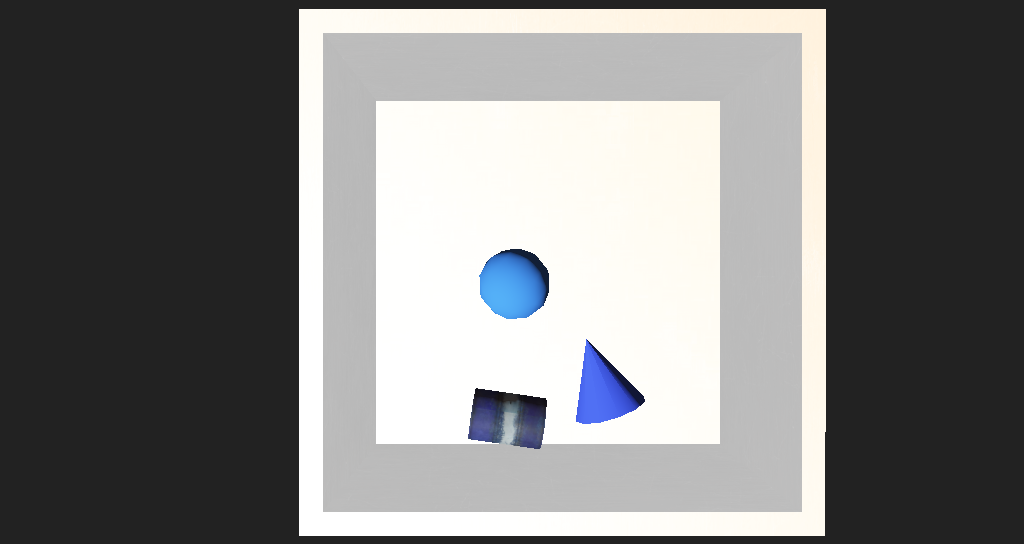cone: (435, 341, 509, 384)
cylinder: (502, 298, 603, 370)
sphere: (448, 255, 509, 298)
